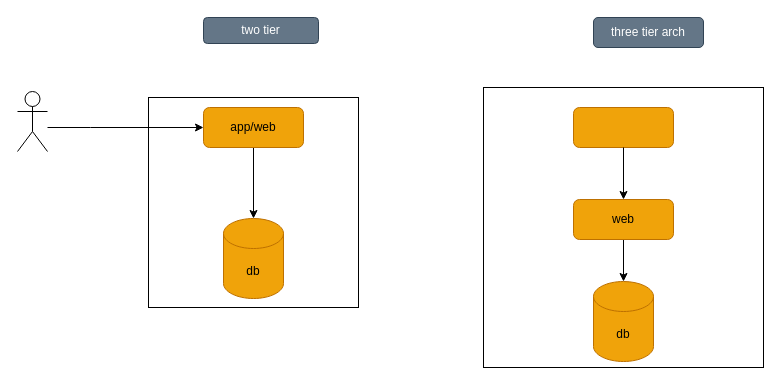
The diagram is 781 pixels wide and 385 high, and some of its shapes have lost their labels. Each missing label, with the centre of its shape:
Actor: (32,121)
app: (623,127)
